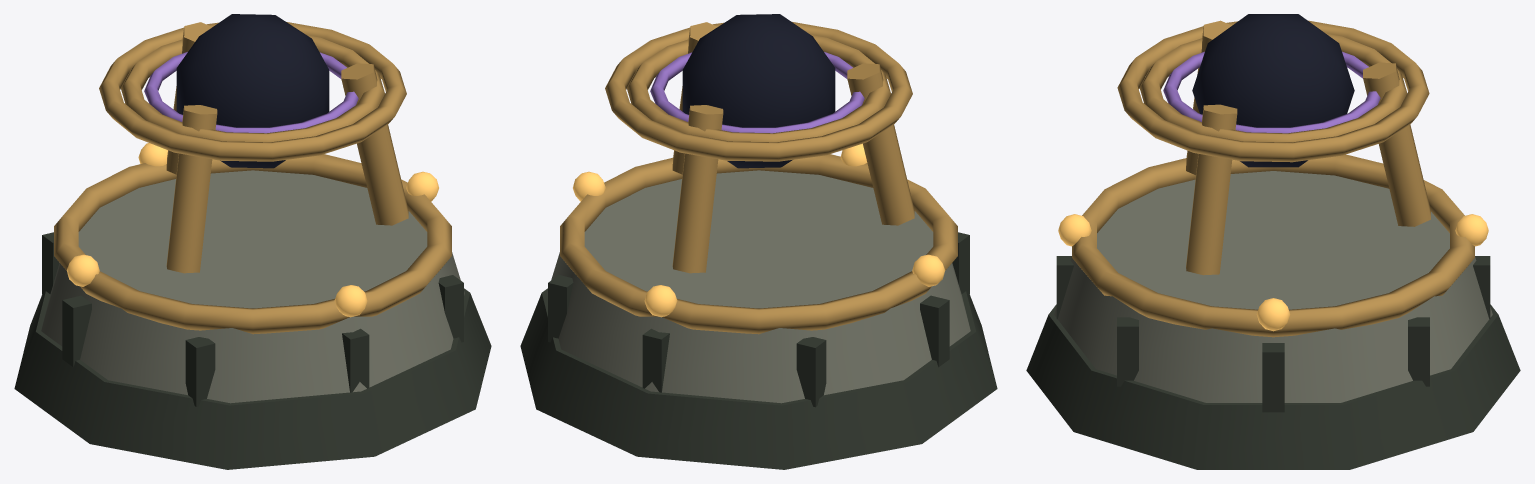
File: tower_gravity_gravityCore.glb
The picture shows the model from 3 angles, left to right: view 1: azimuth 30°, elevation 25°; view 2: azimuth 150°, elevation 25°; view 3: azimuth 270°, elevation 25°; orthographic projection.
Parts seen in each view (by area): view 1: stone_1, foot_0, rim_2, black_hole_15, orbit_21, orbit_20, claw_18, claw_17, accretion_19, mortar_6, mortar_7, mortar_5 (+7 smaller); view 2: stone_1, foot_0, rim_2, black_hole_15, orbit_21, orbit_20, claw_16, claw_18, accretion_19, mortar_8, mortar_7, mortar_9 (+6 smaller); view 3: stone_1, foot_0, rim_2, black_hole_15, orbit_21, orbit_20, claw_17, claw_16, accretion_19, mortar_3, mortar_4, mortar_10 (+6 smaller).
Part boxes in pixels (bbox=[...]): stone_1: bbox=[41, 170, 464, 403]; foot_0: bbox=[14, 288, 491, 469]; rim_2: bbox=[54, 154, 451, 334]; black_hole_15: bbox=[176, 14, 329, 168]; orbit_21: bbox=[99, 22, 406, 161]; orbit_20: bbox=[121, 35, 384, 142]; claw_18: bbox=[166, 105, 217, 273]; claw_17: bbox=[341, 63, 408, 225]; accretion_19: bbox=[144, 52, 358, 133]; mortar_6: bbox=[185, 337, 215, 407]; mortar_7: bbox=[62, 295, 91, 367]; mortar_5: bbox=[342, 328, 369, 392]; stone_1: bbox=[547, 170, 970, 403]; foot_0: bbox=[520, 288, 997, 469]; rim_2: bbox=[560, 154, 957, 334]; black_hole_15: bbox=[682, 14, 835, 168]; orbit_21: bbox=[605, 22, 912, 161]; orbit_20: bbox=[627, 35, 890, 142]; claw_16: bbox=[672, 105, 723, 273]; claw_18: bbox=[847, 63, 914, 225]; accretion_19: bbox=[650, 52, 864, 133]; mortar_8: bbox=[796, 337, 826, 407]; mortar_7: bbox=[920, 295, 949, 367]; mortar_9: bbox=[642, 328, 669, 392]; stone_1: bbox=[1054, 171, 1492, 402]; foot_0: bbox=[1026, 304, 1520, 469]; rim_2: bbox=[1072, 154, 1474, 337]; black_hole_15: bbox=[1192, 14, 1354, 167]; orbit_21: bbox=[1117, 20, 1429, 162]; orbit_20: bbox=[1139, 33, 1407, 142]; claw_17: bbox=[1186, 104, 1237, 275]; claw_16: bbox=[1363, 62, 1430, 226]; accretion_19: bbox=[1163, 51, 1380, 133]; mortar_3: bbox=[1262, 343, 1284, 412]; mortar_4: bbox=[1117, 317, 1138, 386]; mortar_10: bbox=[1408, 317, 1429, 386].
Bounding box in the file's own units: 0.5326 × 0.442 × 0.56.
